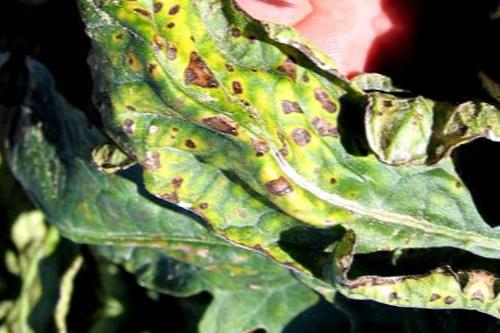Tomato Septoria leaf spot: (9, 0, 500, 333)
